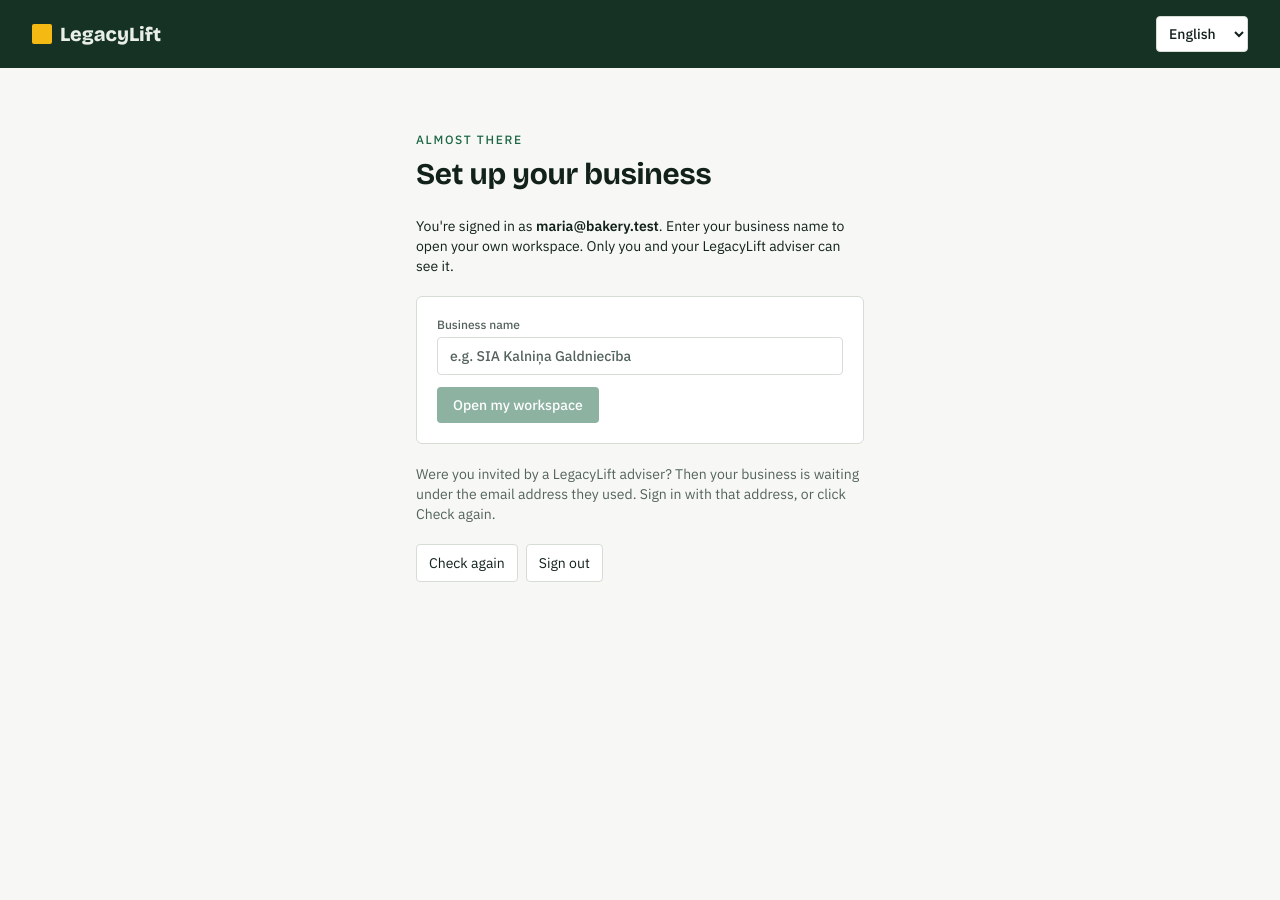
it: client app sign-in › lets a new account set up its own business and opens it
The width and height of the screenshot is (1280, 900).
Expected: the heading "Set up your business" is shown, [416,156,711,192]
Expected: the text "maria@bakery.test" is shown, [536,217,659,235]
In the field labelled "Business name": (640,356) [437,337,843,375], type "  Maiznīca Saulīte "
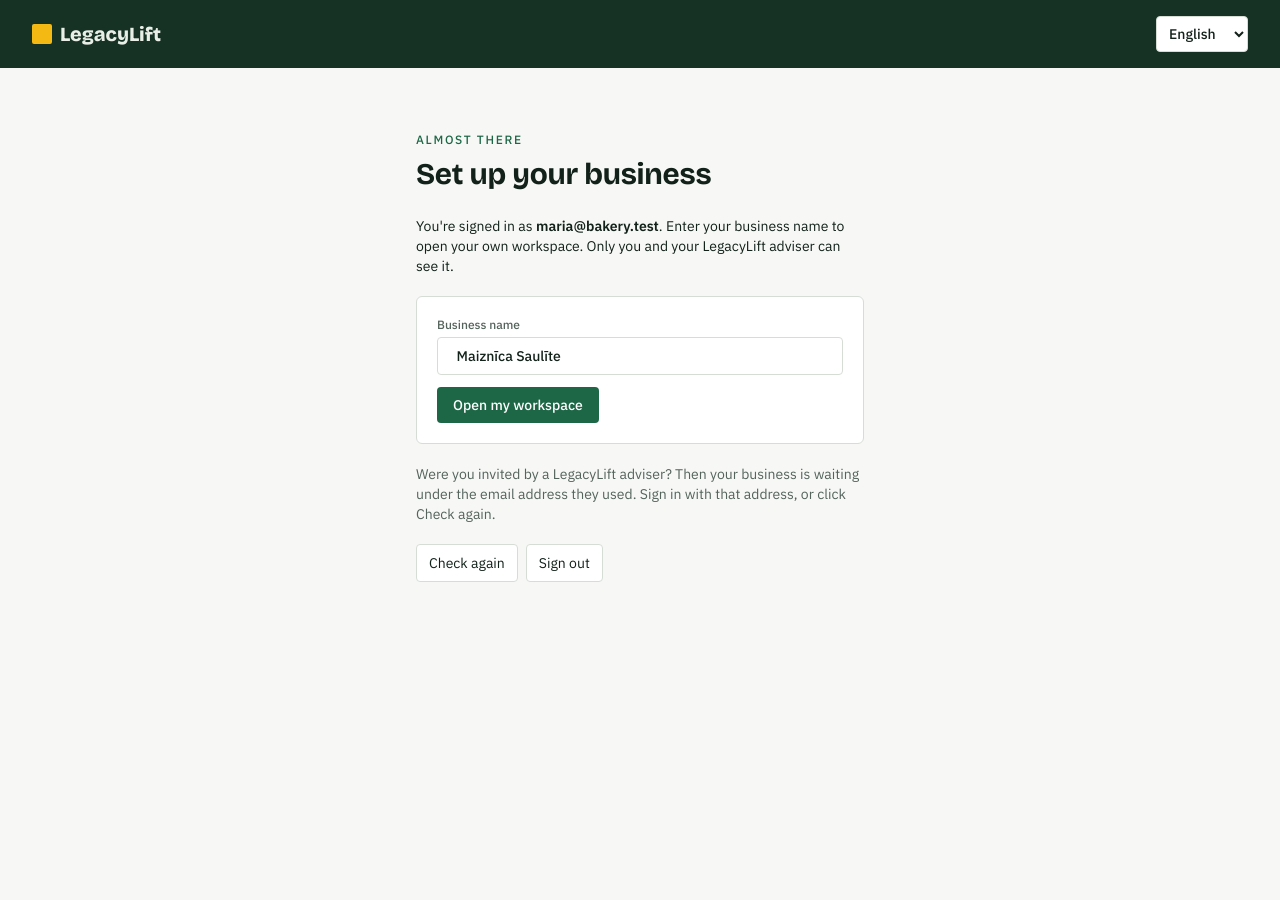
Click the button "Open my workspace": (518,405) [437,387,599,423]
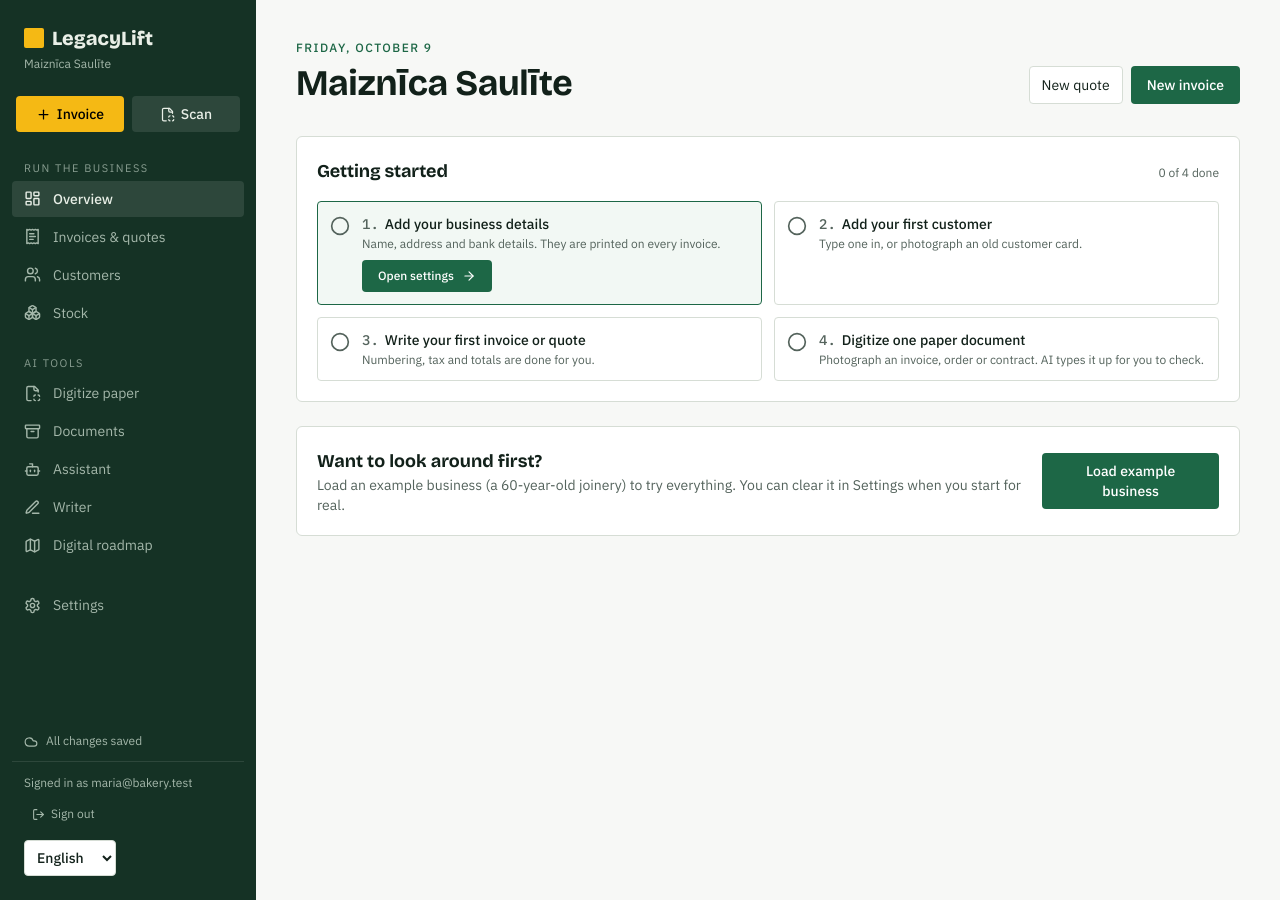
Expected: the heading "Maiznīca Saulīte" is shown, [296,64,572,104]
